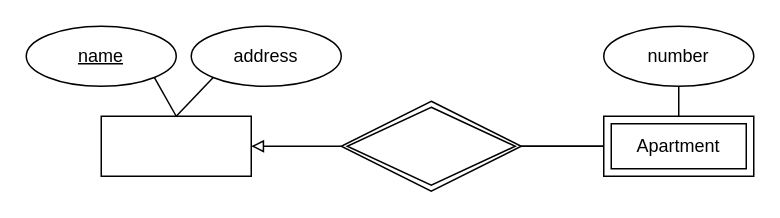
The diagram is 780 pixels wide and 218 high, and some of its shapes have lost their labels. The centre of each missing label's shape, as x and y in pixels:
Building: the point at 175,145
contains: the point at 430,145
